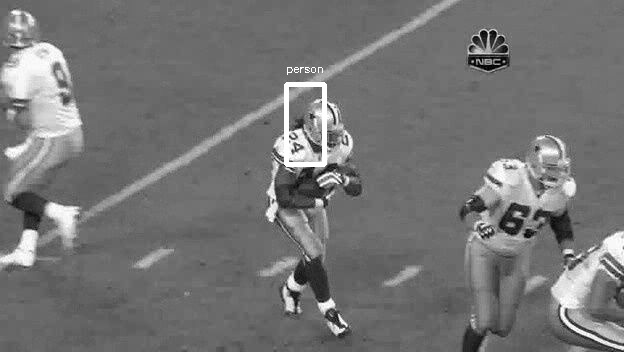person: (306, 98, 344, 147), (305, 98, 343, 147), (307, 98, 345, 147), (306, 97, 344, 146), (306, 99, 344, 148)
target_negative: (183, 201, 491, 320), (313, 234, 470, 302), (571, 4, 617, 155), (95, 208, 167, 275), (588, 223, 617, 274), (556, 218, 582, 254)
